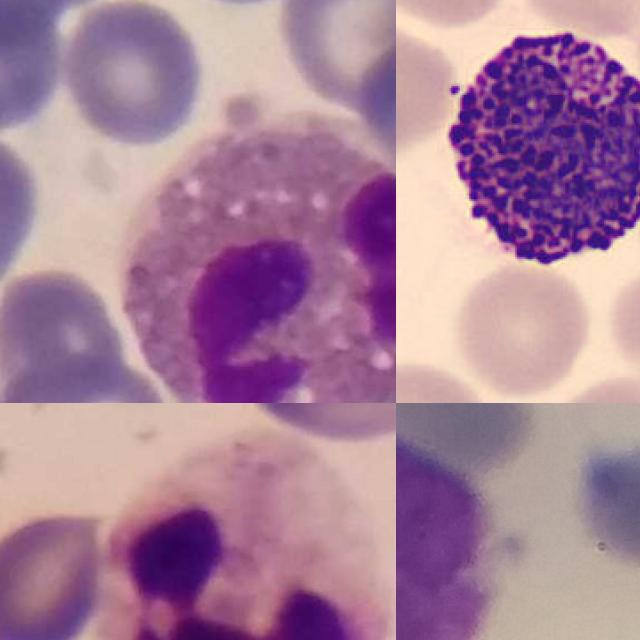Basophil: (424, 12, 640, 280), (396, 419, 488, 640)
Eosinophil: (126, 119, 396, 403)
Neutrophil: (95, 437, 387, 640)
RBC: (447, 259, 597, 402), (396, 15, 463, 160), (396, 352, 500, 403), (604, 261, 640, 403)
